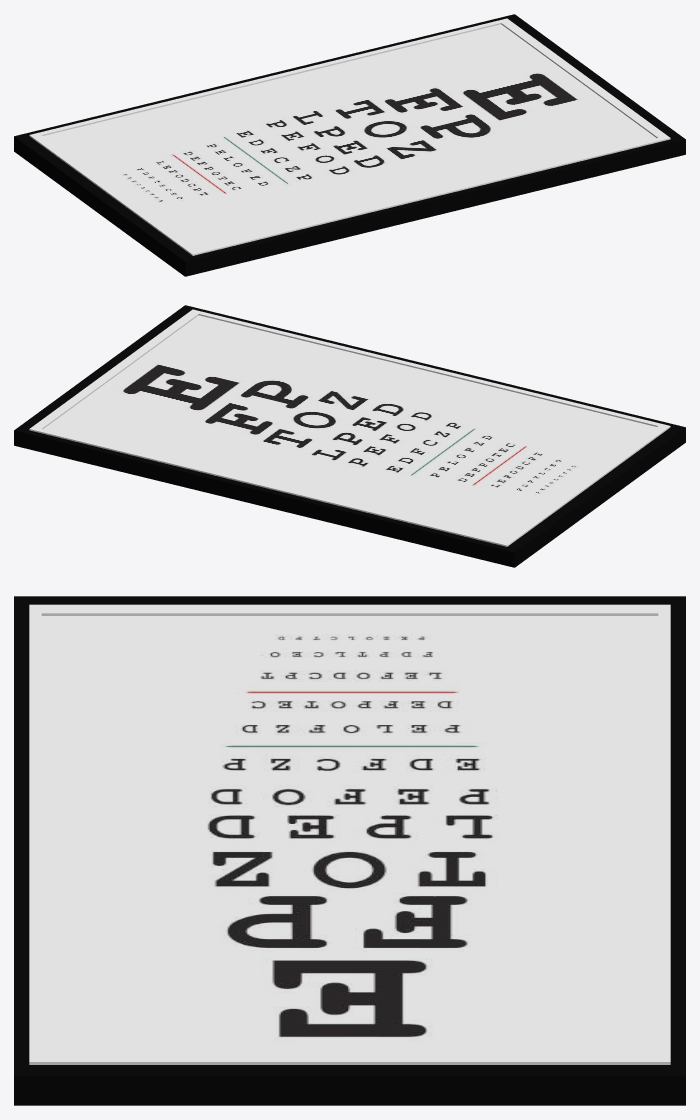
Rendered from snellen-table.glb.
3 views of the same model, one above another, from view 1: azimuth 30°, elevation 25°; view 2: azimuth 150°, elevation 25°; view 3: azimuth 270°, elevation 25° (orthographic). The views are drawn at different scales.
Parts seen in each view (by area): view 1: SnellenTable, Frame; view 2: SnellenTable, Frame; view 3: SnellenTable, Frame.
Boxes of the visible parts, left/top/right/bottom form: SnellenTable: left=29, top=18, right=670, bottom=255; Frame: left=14, top=14, right=685, bottom=276; SnellenTable: left=29, top=309, right=670, bottom=546; Frame: left=14, top=305, right=685, bottom=567; SnellenTable: left=29, top=604, right=670, bottom=1064; Frame: left=14, top=596, right=685, bottom=1105.
Size of the model in its own units: 3.38 by 0.107 by 2.
2 materials, 1 textured.
